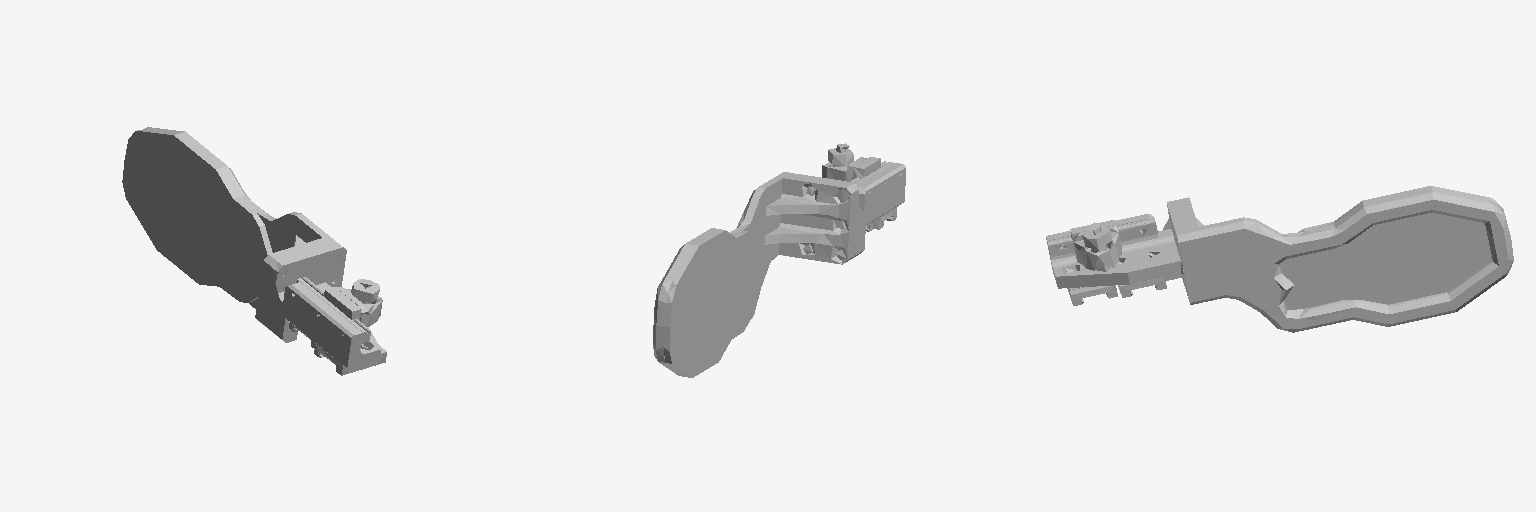
Rendered from gripper_left_finger_link.obj.
3 renders of one model, left to right at view 1: azimuth 30°, elevation 25°; view 2: azimuth 150°, elevation 25°; view 3: azimuth 270°, elevation 25°, orthographic.
Visible parts, largest first — view 1: gripper_left_finger_link; view 2: gripper_left_finger_link; view 3: gripper_left_finger_link.
Boxes of the visible parts, box(x1,y1,x2,y2) form: gripper_left_finger_link: box(122, 127, 386, 375); gripper_left_finger_link: box(653, 143, 905, 377); gripper_left_finger_link: box(1046, 186, 1513, 332).
Size of the model in its own units: 0.0339 by 0.0539 by 0.1706.